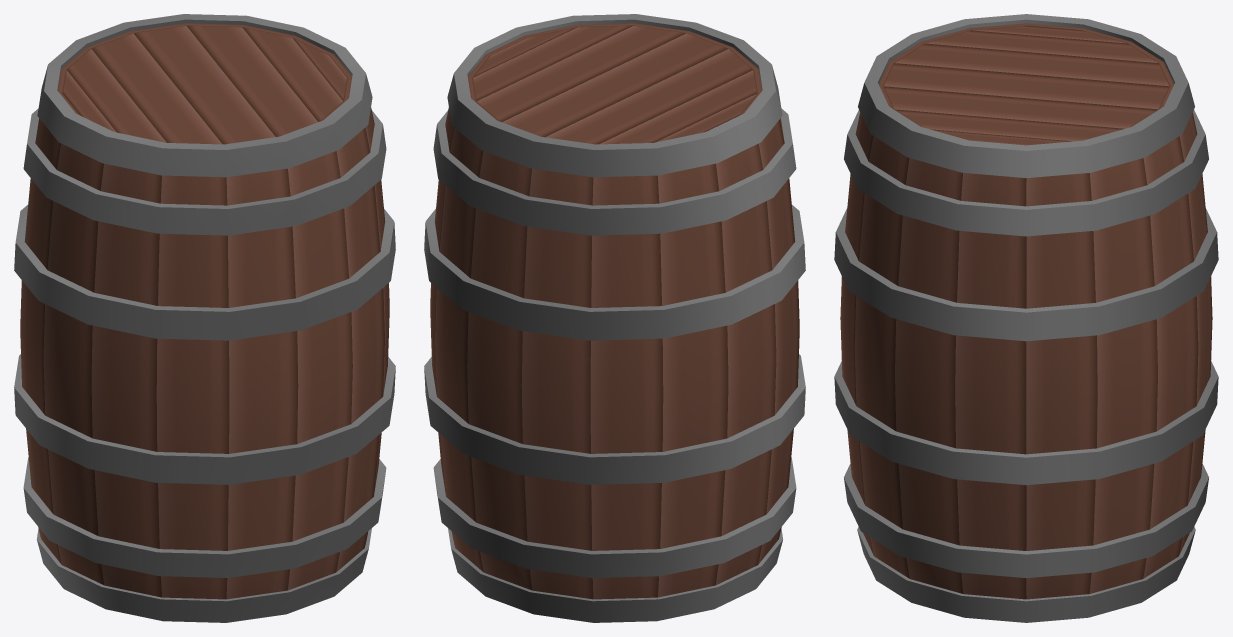
File: Barrel.fbx
3 views of the same model, side by side, from view 1: azimuth 30°, elevation 25°; view 2: azimuth 150°, elevation 25°; view 3: azimuth 270°, elevation 25° (orthographic).
Visible parts, largest first — view 1: Cylinder; view 2: Cylinder; view 3: Cylinder.
Part boxes in pixels (x1,y1,x2,y2): Cylinder: [14, 14, 395, 622]; Cylinder: [424, 14, 805, 622]; Cylinder: [834, 14, 1218, 622].
Bounding box in the file's own units: 1.07 × 1.07 × 1.45.
